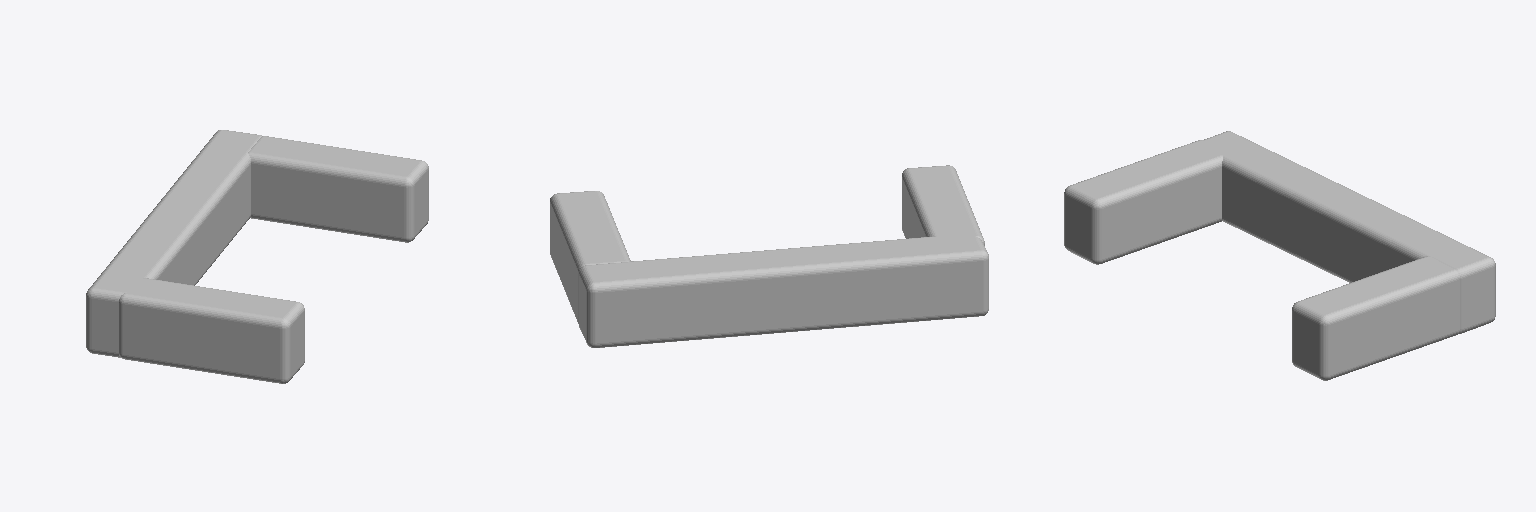
File: Treasure Island Shrubs.obj
3 renders of one model, left to right at view 1: azimuth 30°, elevation 25°; view 2: azimuth 150°, elevation 25°; view 3: azimuth 270°, elevation 25°, orthographic.
Visible parts, largest first — view 1: 000_Box_20, 001_Box_17, 002_Box_19; view 2: 000_Box_20, 002_Box_19, 001_Box_17; view 3: 000_Box_20, 002_Box_19, 001_Box_17.
Boxes of the visible parts, x1=… form: 000_Box_20: x1=86, y1=130, x2=261, y2=357; 001_Box_17: x1=119, y1=278, x2=304, y2=383; 002_Box_19: x1=248, y1=136, x2=428, y2=242; 000_Box_20: x1=579, y1=234, x2=988, y2=347; 002_Box_19: x1=550, y1=191, x2=630, y2=323; 001_Box_17: x1=902, y1=165, x2=984, y2=245; 000_Box_20: x1=1202, y1=131, x2=1495, y2=333; 002_Box_19: x1=1292, y1=256, x2=1459, y2=380; 001_Box_17: x1=1064, y1=140, x2=1225, y2=264.
Bounding box in the file's own units: 218 × 35 × 209.